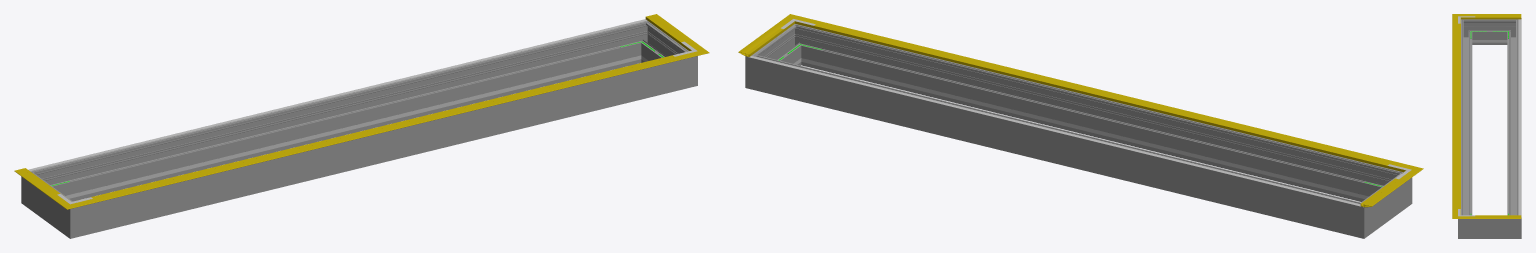
3 renders of one model, left to right at view 1: azimuth 30°, elevation 25°; view 2: azimuth 150°, elevation 25°; view 3: azimuth 270°, elevation 25°, orthographic. The views are drawn at different scales.
Visible parts, largest first — view 1: 3DGeom-278, 3DGeom-300, 3DGeom-141, 3DGeom-246, 3DGeom-222, 3DGeom-158, 3DGeom-272, 3DGeom-286, 3DGeom-292, 3DGeom-299, 3DGeom-270, 3DGeom-280 (+1 smaller); view 2: 3DGeom-300, 3DGeom-278, 3DGeom-141, 3DGeom-241, 3DGeom-222, 3DGeom-158, 3DGeom-280, 3DGeom-286, 3DGeom-292, 3DGeom-270, 3DGeom-299, 3DGeom-272 (+1 smaller); view 3: 3DGeom-300, 3DGeom-278, 3DGeom-141, 3DGeom-222, 3DGeom-270, 3DGeom-299, 3DGeom-158, 3DGeom-286, 3DGeom-292, 3DGeom-147, 3DGeom-272, 3DGeom-280 (+9 smaller).
Part boxes in pixels (x1=…): 3DGeom-278: x1=46, y1=25, x2=637, y2=201; 3DGeom-300: x1=93, y1=61, x2=674, y2=233; 3DGeom-141: x1=86, y1=55, x2=686, y2=203; 3DGeom-246: x1=73, y1=61, x2=618, y2=197; 3DGeom-222: x1=28, y1=19, x2=646, y2=171; 3DGeom-158: x1=91, y1=55, x2=674, y2=198; 3DGeom-272: x1=57, y1=195, x2=92, y2=238; 3DGeom-286: x1=628, y1=20, x2=658, y2=63; 3DGeom-292: x1=675, y1=45, x2=697, y2=91; 3DGeom-299: x1=643, y1=29, x2=680, y2=62; 3DGeom-270: x1=34, y1=179, x2=64, y2=228; 3DGeom-280: x1=21, y1=167, x2=55, y2=212; 3DGeom-300: x1=805, y1=28, x2=1387, y2=201; 3DGeom-278: x1=768, y1=59, x2=1345, y2=233; 3DGeom-141: x1=806, y1=19, x2=1400, y2=169; 3DGeom-241: x1=823, y1=63, x2=1360, y2=197; 3DGeom-222: x1=749, y1=56, x2=1360, y2=206; 3DGeom-158: x1=814, y1=24, x2=1388, y2=165; 3DGeom-280: x1=1341, y1=196, x2=1377, y2=238; 3DGeom-286: x1=745, y1=48, x2=771, y2=93; 3DGeom-292: x1=784, y1=24, x2=813, y2=66; 3DGeom-270: x1=1370, y1=180, x2=1399, y2=228; 3DGeom-299: x1=762, y1=32, x2=798, y2=65; 3DGeom-272: x1=1378, y1=168, x2=1412, y2=212; 3DGeom-300: x1=1461, y1=25, x2=1472, y2=215; 3DGeom-278: x1=1507, y1=25, x2=1518, y2=215; 3DGeom-141: x1=1452, y1=21, x2=1460, y2=211; 3DGeom-222: x1=1518, y1=19, x2=1521, y2=216; 3DGeom-270: x1=1475, y1=19, x2=1504, y2=44; 3DGeom-299: x1=1475, y1=219, x2=1504, y2=238; 3DGeom-158: x1=1458, y1=23, x2=1460, y2=208; 3DGeom-286: x1=1504, y1=210, x2=1521, y2=238; 3DGeom-292: x1=1458, y1=210, x2=1475, y2=238; 3DGeom-147: x1=1469, y1=14, x2=1521, y2=19; 3DGeom-272: x1=1461, y1=19, x2=1475, y2=44; 3DGeom-280: x1=1504, y1=18, x2=1521, y2=44.
Bounding box in the file's own units: 4.27 × 0.2195 × 0.6096.
